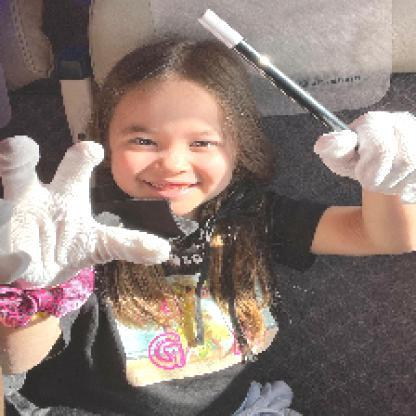child: (1, 9, 415, 416)
